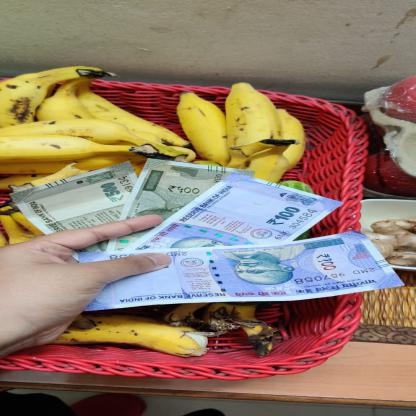New100Front: (78, 230, 407, 312), (123, 172, 346, 250)
New500Front: (107, 158, 257, 251), (10, 160, 140, 261)
